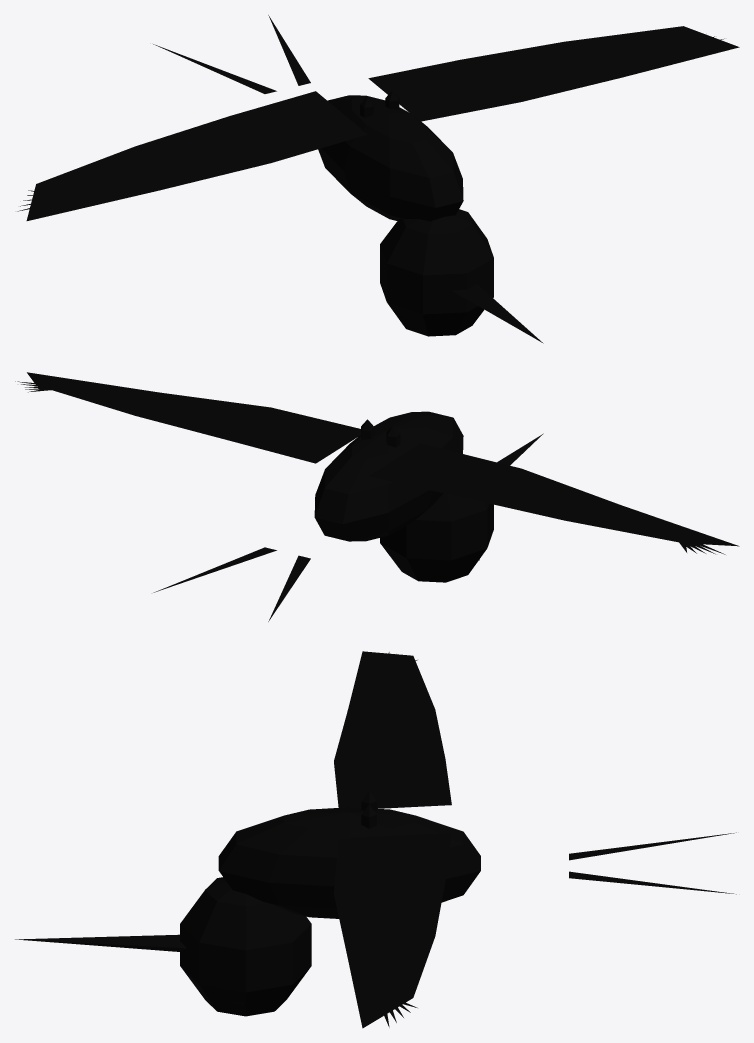
File: gliding_00.glb
3 views of the same model, one above another, from view 1: azimuth 30°, elevation 25°; view 2: azimuth 150°, elevation 25°; view 3: azimuth 270°, elevation 25° (orthographic). The views are drawn at different scales.
Parts seen in each view (by area): view 1: BirdBody; view 2: BirdBody; view 3: BirdBody.
Boxes of the visible parts, x1,y1,x2,y2 form: BirdBody: [17, 15, 739, 343]; BirdBody: [15, 372, 739, 621]; BirdBody: [15, 651, 736, 1028].
Size of the model in its own units: 1.13 by 0.3019 by 0.9215.
Materials: 1 (1 with a texture image).
